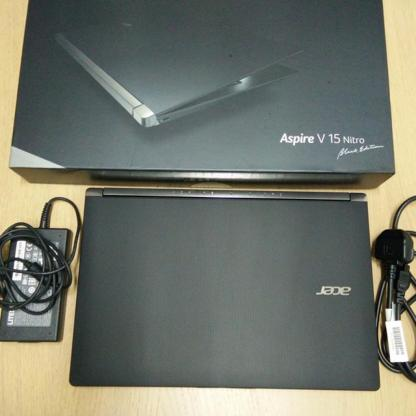board: (61, 171, 391, 396), (54, 22, 302, 127)
